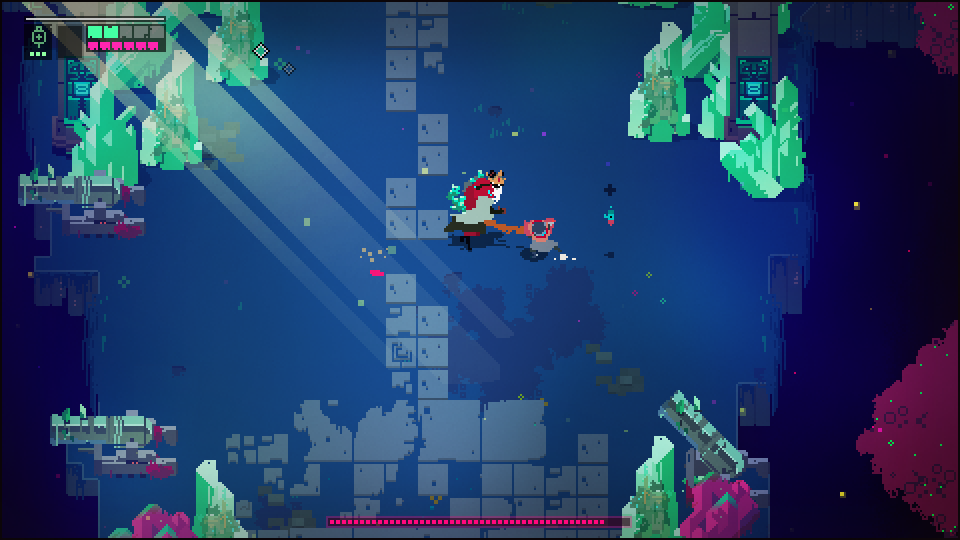hanged_man: (441, 164, 511, 247)
player: (521, 211, 560, 263)
